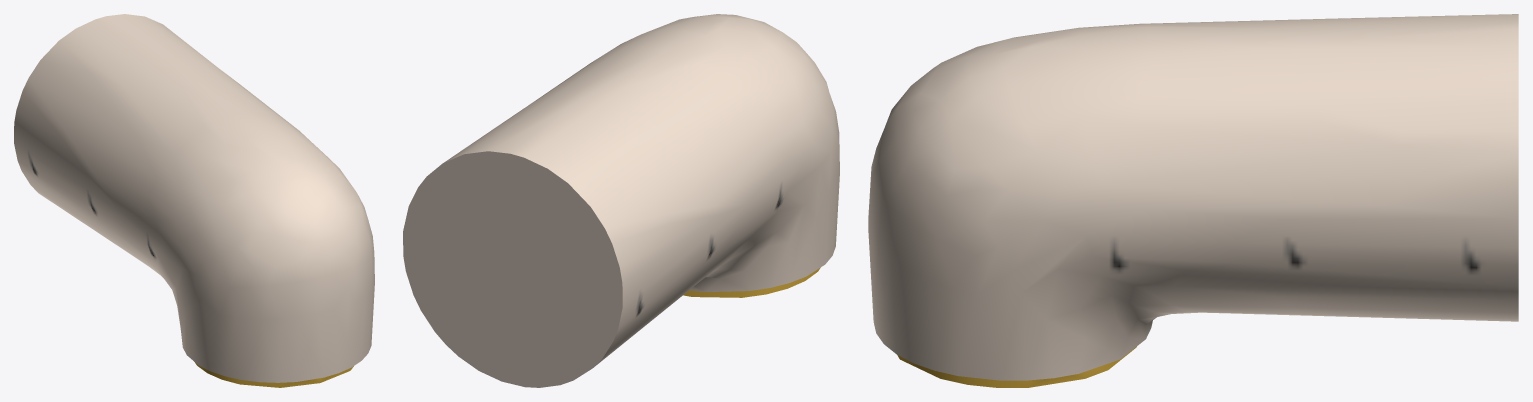
The model's file is link_bicep.3obj.obj.
3 renders of one model, left to right at view 1: azimuth 30°, elevation 25°; view 2: azimuth 150°, elevation 25°; view 3: azimuth 270°, elevation 25°, orthographic. The views are drawn at different scales.
Parts seen in each view (by area): view 1: link_bicep whole_robot; view 2: link_bicep whole_robot; view 3: link_bicep whole_robot.
Boxes of the visible parts, x1,y1,x2,y2 form: link_bicep whole_robot: (14, 14, 374, 387); link_bicep whole_robot: (403, 14, 839, 387); link_bicep whole_robot: (868, 14, 1518, 387).
Bounding box in the file's own units: 0.1121 × 0.1233 × 0.237.
